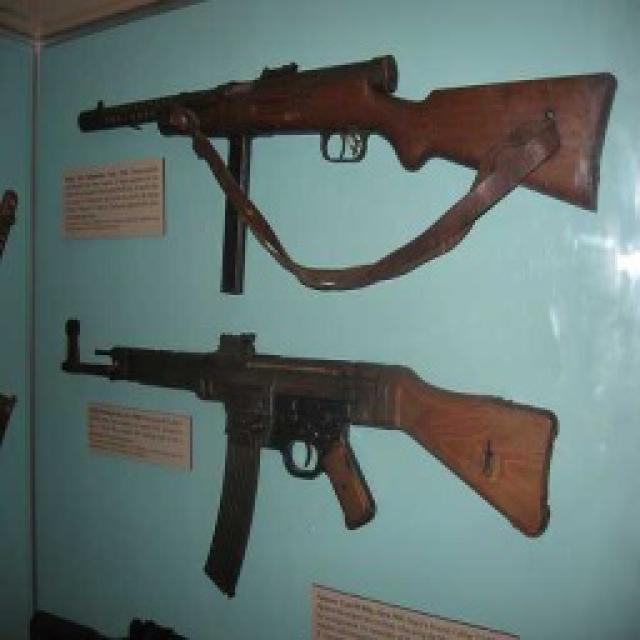long weapon: (36, 304, 587, 556), (60, 77, 639, 255)
